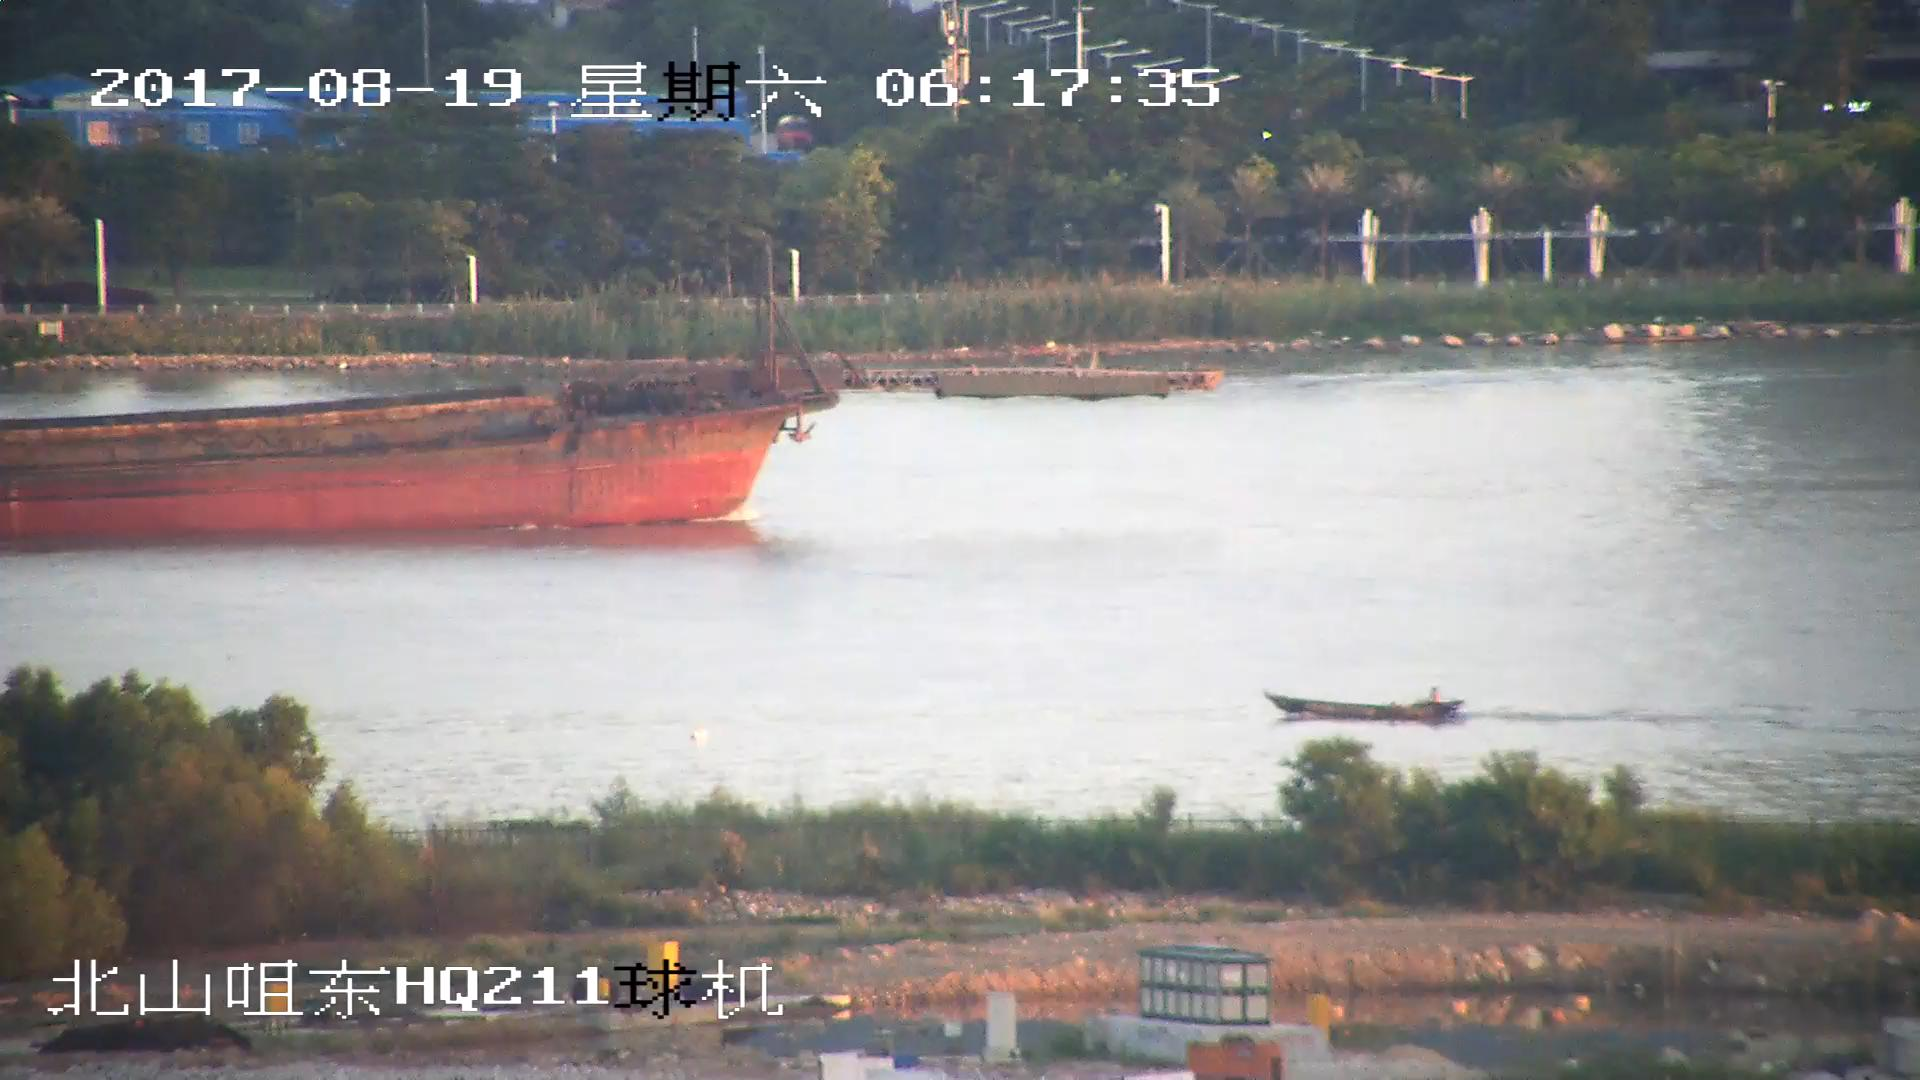bulk cargo carrier: (1, 247, 1213, 547)
fishing boat: (1268, 688, 1465, 724)
